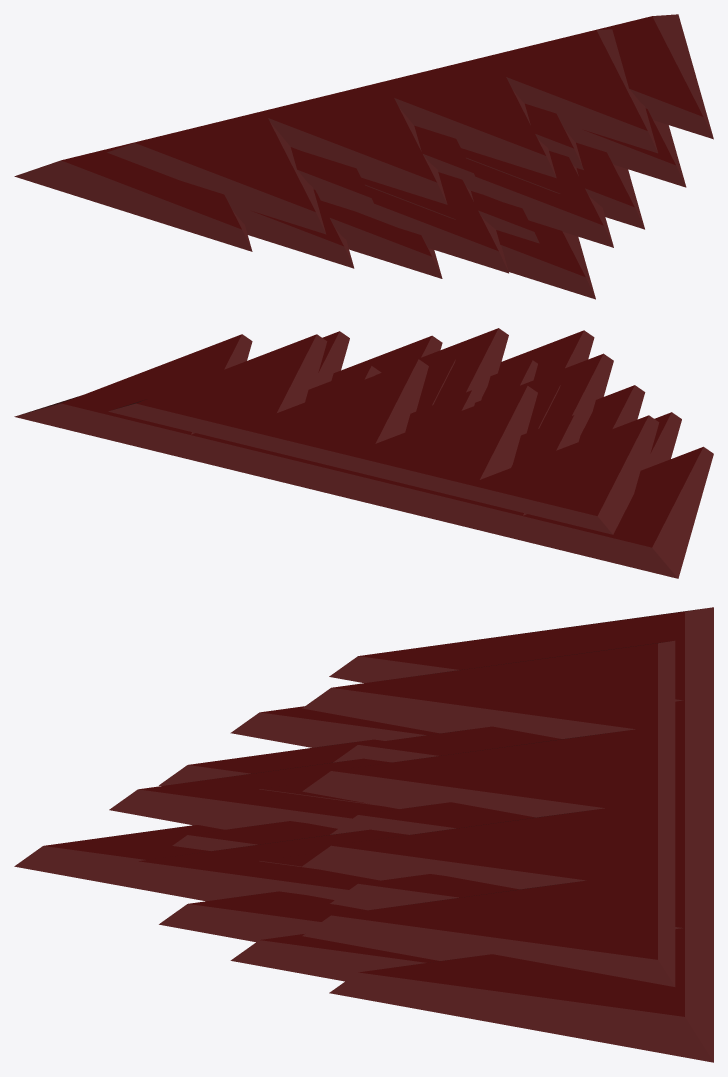
File: Scales.fbx
3 renders of one model, top to bottom at view 1: azimuth 30°, elevation 25°; view 2: azimuth 150°, elevation 25°; view 3: azimuth 270°, elevation 25°, orthographic. The views are drawn at different scales.
Parts seen in each view (by area): view 1: Scale19; view 2: Scale19; view 3: Scale19.
Part boxes in pixels (<box>): Scale19: <box>14,14,713,299</box>; Scale19: <box>14,328,713,578</box>; Scale19: <box>14,607,713,1062</box>.
Bounding box in the file's own units: 0.4513 × 0.0296 × 0.2931.
